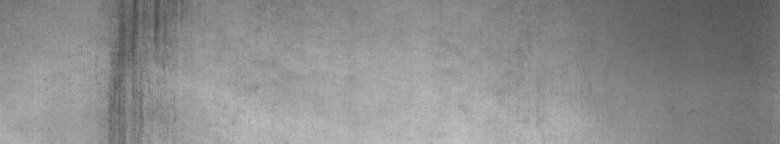ka: (104, 4, 174, 136)
